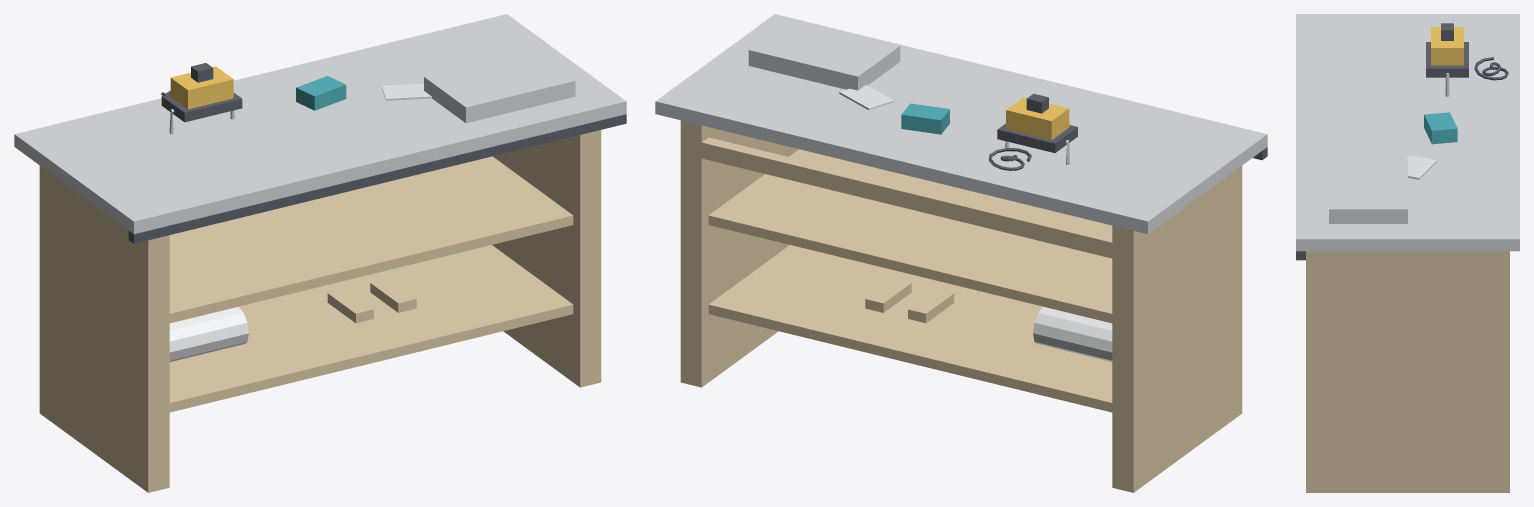
File: snowboard-gear-and-freestyle-riders-wax-bench-a0017889__27184.glb
3 views of the same model, side by side, from view 1: azimuth 30°, elevation 25°; view 2: azimuth 150°, elevation 25°; view 3: azimuth 270°, elevation 25° (orthographic). The views are drawn at different scales.
Visible parts, largest first — view 1: wax-bench; view 2: wax-bench; view 3: wax-bench.
Part boxes in pixels (left/top/right/bottom): wax-bench: left=14, top=14, right=626, bottom=492; wax-bench: left=655, top=14, right=1267, bottom=492; wax-bench: left=1296, top=14, right=1519, bottom=492.
Bounding box in the file's own units: 1.62 × 1.07 × 0.68.
